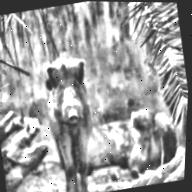boar: (31, 46, 119, 192)
